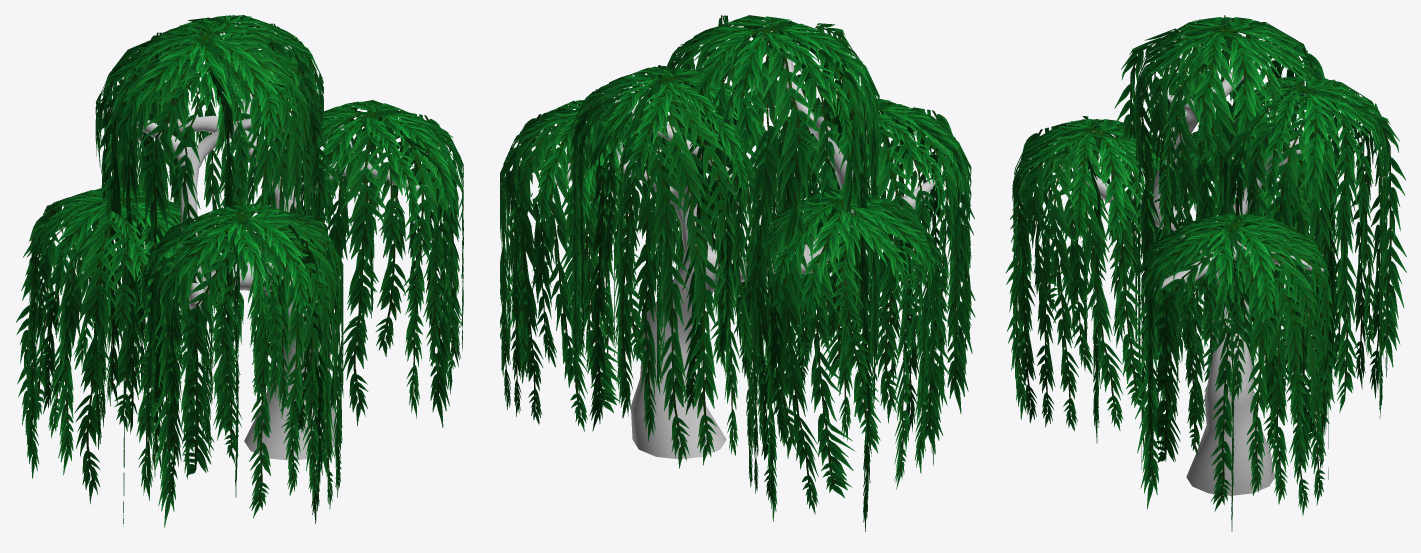
Rendered from street_vegetation_park_tree_Iva.FBX.
3 views of the same model, side by side, from view 1: azimuth 30°, elevation 25°; view 2: azimuth 150°, elevation 25°; view 3: azimuth 270°, elevation 25° (orthographic). The views are drawn at different scales.
Visible parts, largest first — view 1: street_vegetation_park_tree_Iva_leafs, street_vegetation_park_tree_Iva_leafs001, street_vegetation_park_tree_Iva_leafs004, street_vegetation_park_tree_Iva_bark; view 2: street_vegetation_park_tree_Iva_leafs, street_vegetation_park_tree_Iva_leafs001, street_vegetation_park_tree_Iva_leafs004, street_vegetation_park_tree_Iva_bark; view 3: street_vegetation_park_tree_Iva_leafs, street_vegetation_park_tree_Iva_leafs001, street_vegetation_park_tree_Iva_leafs004, street_vegetation_park_tree_Iva_bark.
Part boxes in pixels (x1,y1,x2,y2): street_vegetation_park_tree_Iva_leafs: (26, 15, 463, 518); street_vegetation_park_tree_Iva_leafs001: (28, 15, 461, 326); street_vegetation_park_tree_Iva_leafs004: (16, 17, 455, 527); street_vegetation_park_tree_Iva_bark: (107, 45, 424, 460); street_vegetation_park_tree_Iva_leafs: (500, 15, 971, 514); street_vegetation_park_tree_Iva_leafs001: (503, 16, 968, 318); street_vegetation_park_tree_Iva_leafs004: (507, 15, 975, 531); street_vegetation_park_tree_Iva_bark: (539, 51, 935, 459); street_vegetation_park_tree_Iva_leafs: (1013, 17, 1387, 515); street_vegetation_park_tree_Iva_leafs001: (1012, 17, 1387, 324); street_vegetation_park_tree_Iva_leafs004: (1006, 15, 1406, 531); street_vegetation_park_tree_Iva_bark: (1078, 55, 1324, 495).
Bounding box in the file's own units: 603 × 594 × 521.
